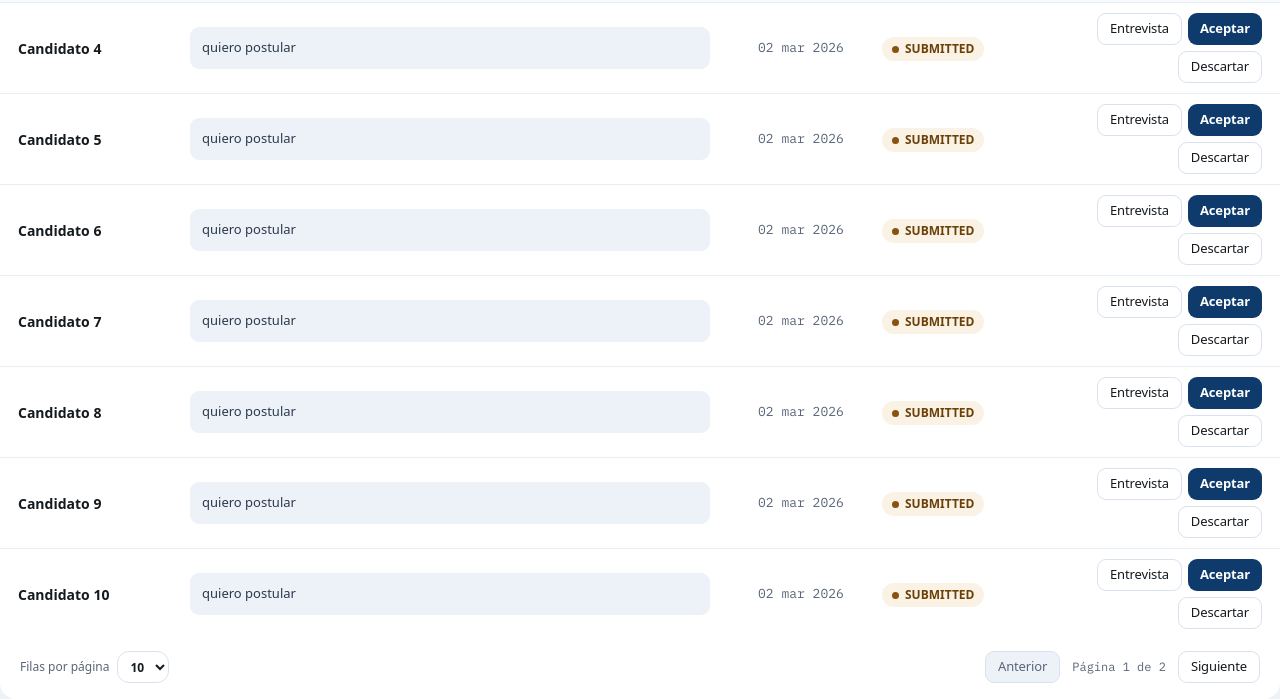
Test: OfferApplicationsPage — filas por página › al elegir 5 filas por página muestra 5
The width and height of the screenshot is (1280, 699).
(page scrolled)
Select "5" in the dropdown labelled "Filas por página" at (144, 667), box [118,651,170,683]
(page scrolled)
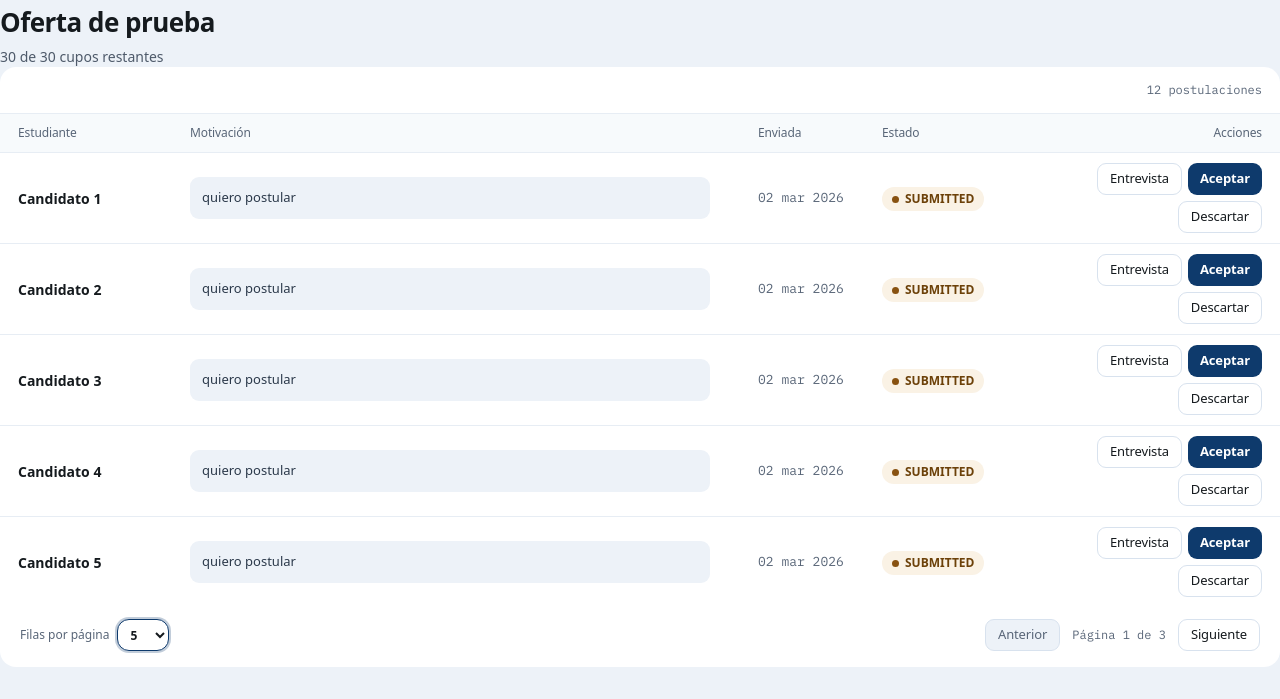
Expected: the text "Candidato 1" is shown 5 times, [18,188,101,208]; [18,280,101,298]; [18,370,101,390]; [18,462,101,480]; [18,552,101,572]
Expected: the text "Página 1 de 3" is shown, [1072,626,1166,644]
